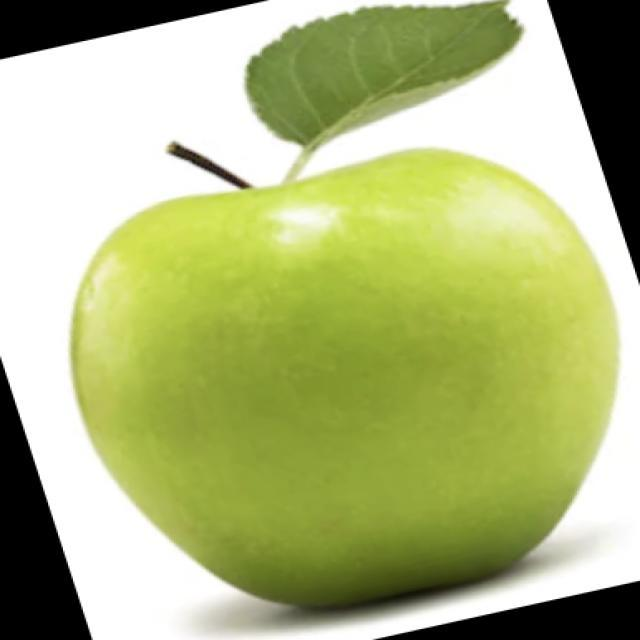Fresh Apple: (90, 153, 607, 592)
